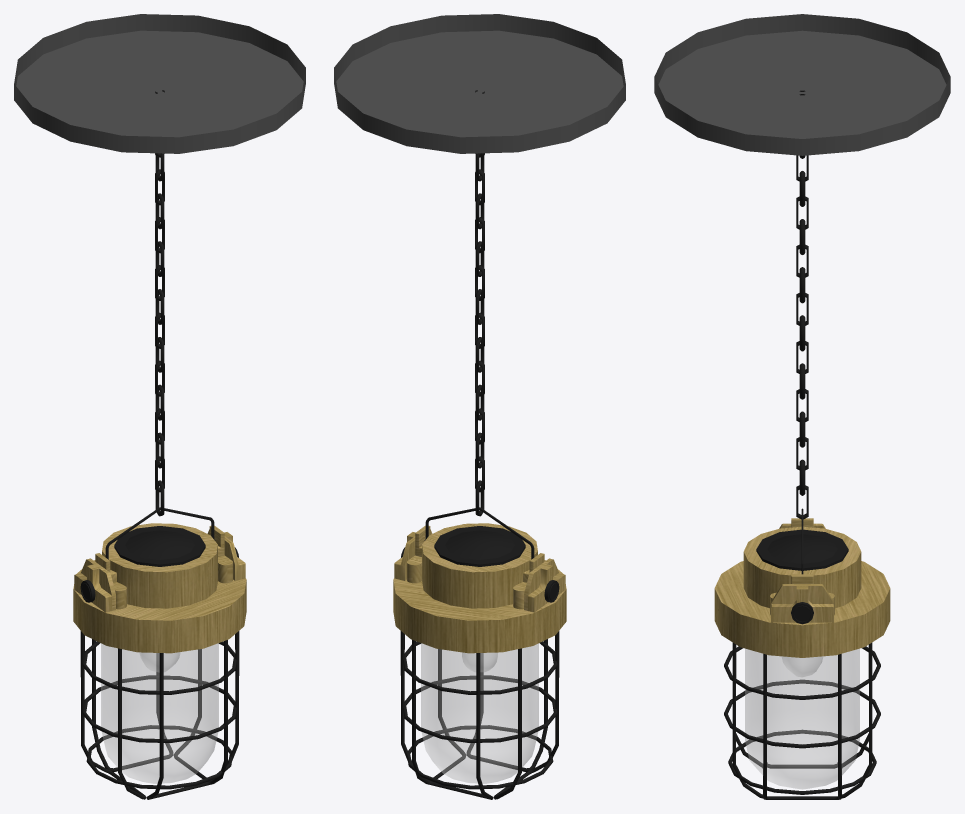
3 renders of one model, left to right at view 1: azimuth 30°, elevation 25°; view 2: azimuth 150°, elevation 25°; view 3: azimuth 270°, elevation 25°, orthographic.
Visible parts, largest first — view 1: Light_high; view 2: Light_high; view 3: Light_high.
Boxes of the visible parts, bbox=[...] form: Light_high: bbox=[14, 14, 305, 799]; Light_high: bbox=[334, 14, 625, 799]; Light_high: bbox=[654, 14, 950, 799].
Bounding box in the file's own units: 36.24 × 95.55 × 36.24.
Materials: 3 (3 with a texture image).
